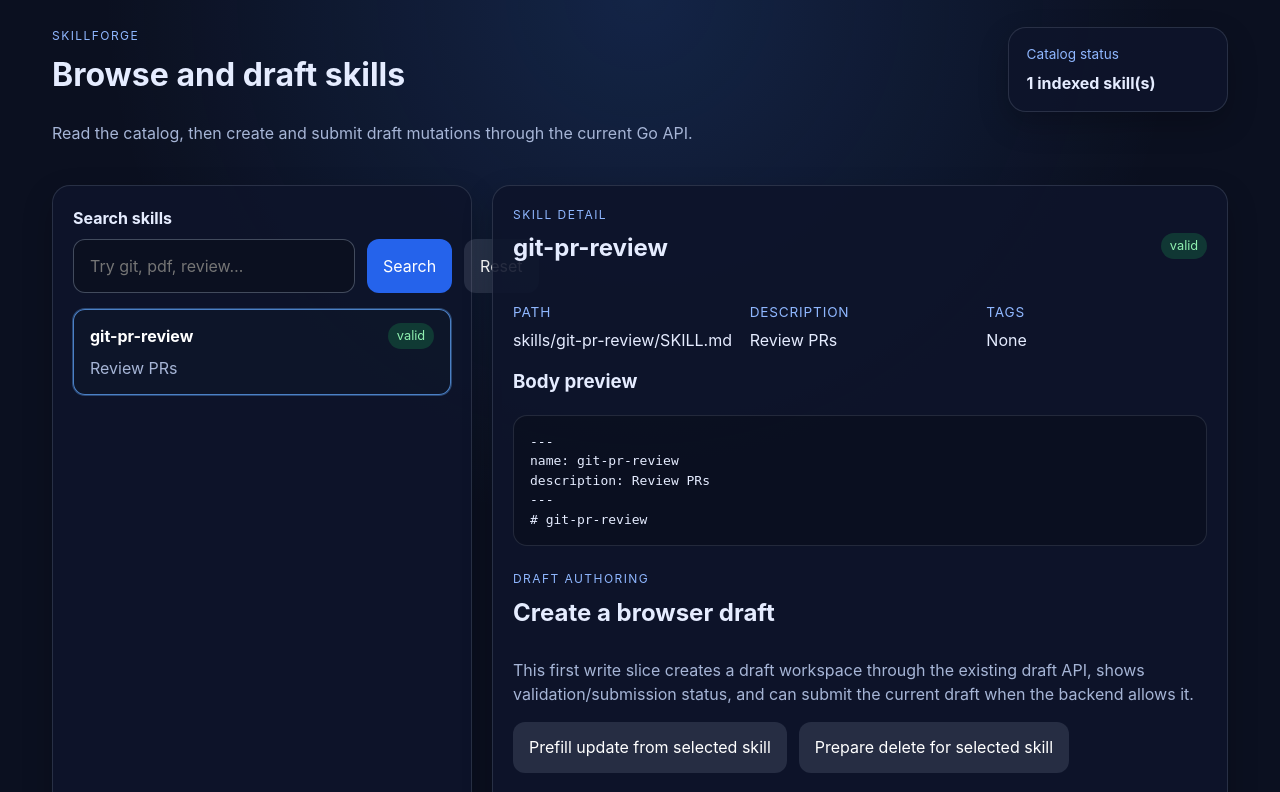
App › surfaces backend validation and submission details after a failed submit attempt
This screenshot has width=1280, height=792.
Expected: the heading "Body preview" is shown, [513, 370, 637, 393]
Click the button "Prefill update from selected skill". click: (650, 748)
box: [513, 722, 787, 773]
(page scrolled)
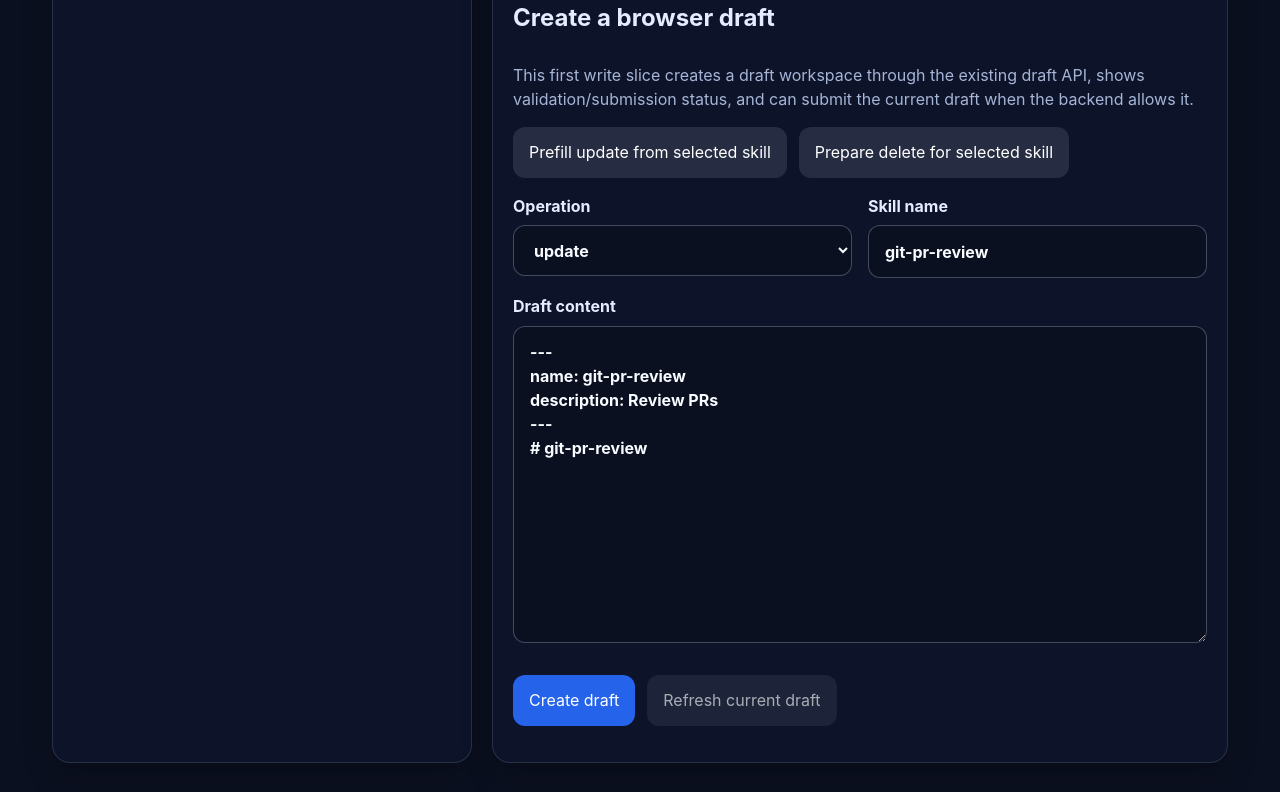
Click the button "Create draft". click: (574, 700)
box: [513, 675, 635, 726]
(page scrolled)
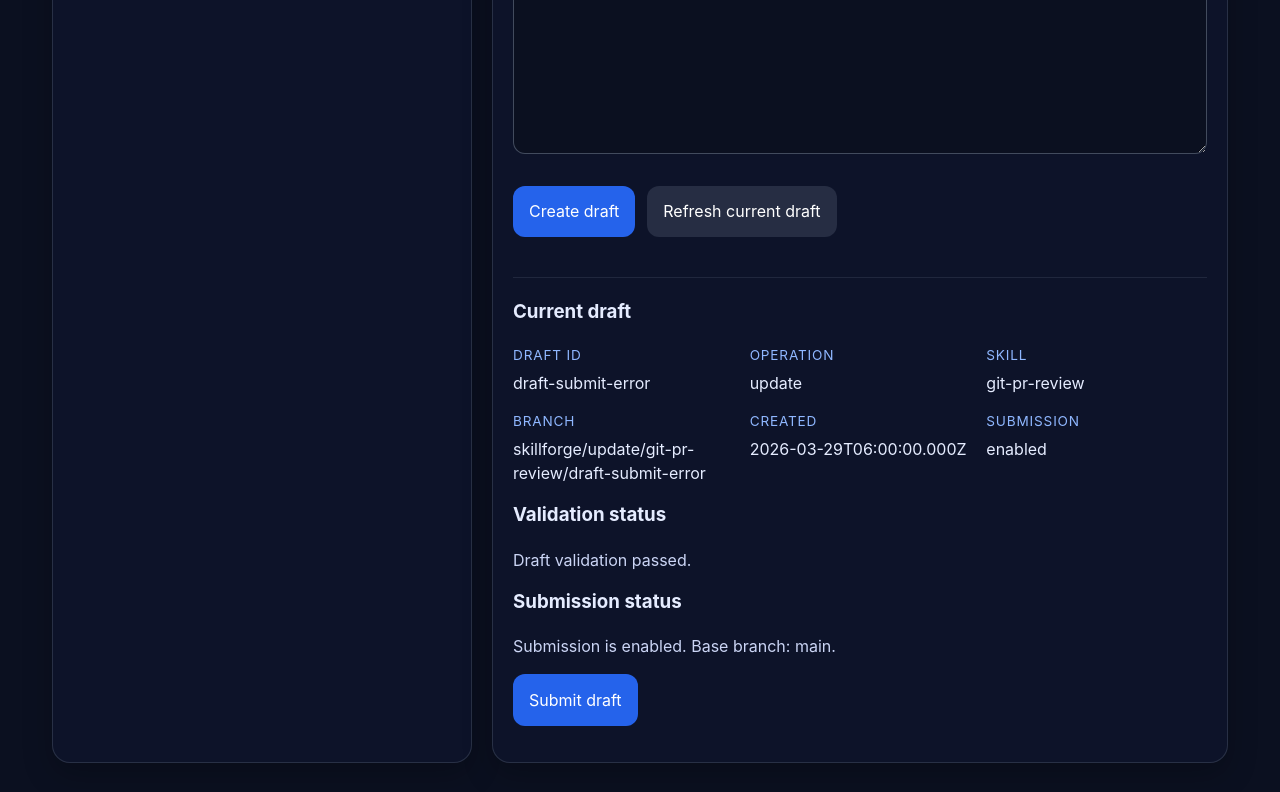
Expected: the text "draft-submit-error" is shown, [513, 373, 650, 393]
Click the button "Submit draft". click: (575, 700)
box: [513, 674, 638, 726]
(page scrolled)
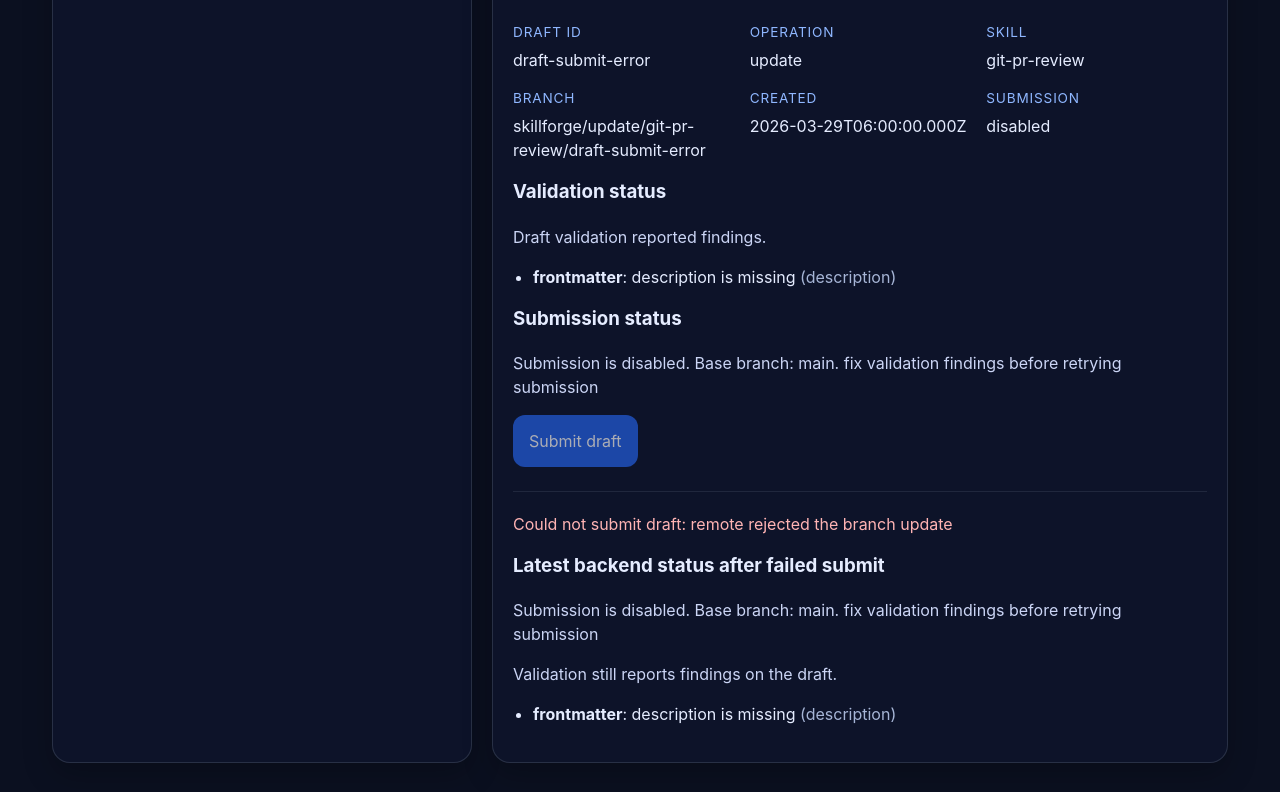
Expected: the text "Could not submit draft: remote rejected the branch update" is shown, [513, 514, 953, 534]
Expected: the heading "Latest backend status after failed submit" is shown, [513, 554, 885, 577]
Expected: the text "Submission is disabled. Base branch: main. fix validation findings before retrying submission" below "Could not submit draft:" is shown, [513, 598, 1207, 646]
